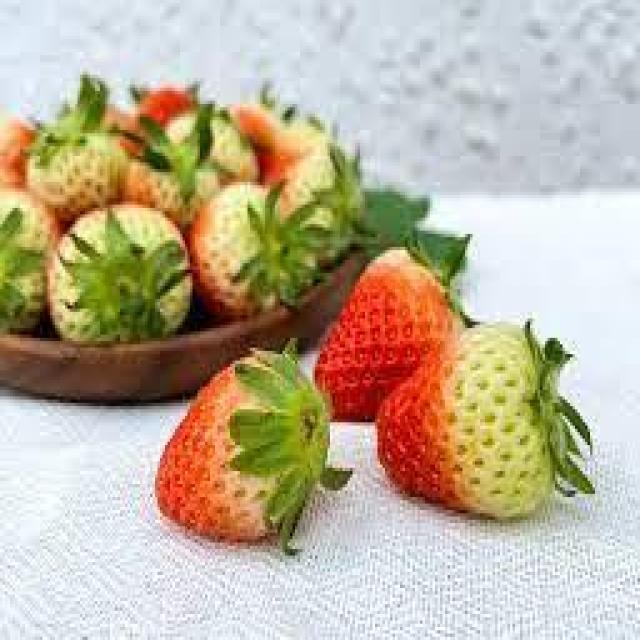Strawberry: (378, 323, 558, 515), (154, 354, 318, 543), (315, 247, 455, 419), (54, 202, 188, 346), (189, 179, 312, 319), (28, 121, 119, 213), (121, 142, 227, 217)
